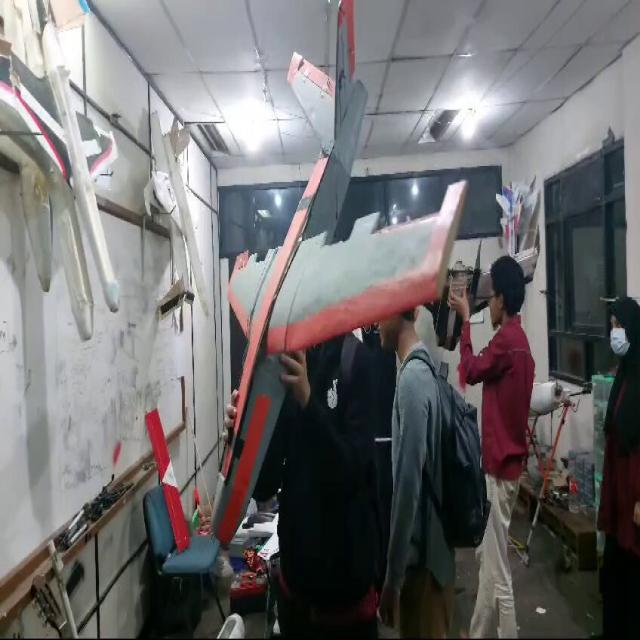plane: (196, 0, 474, 554)
